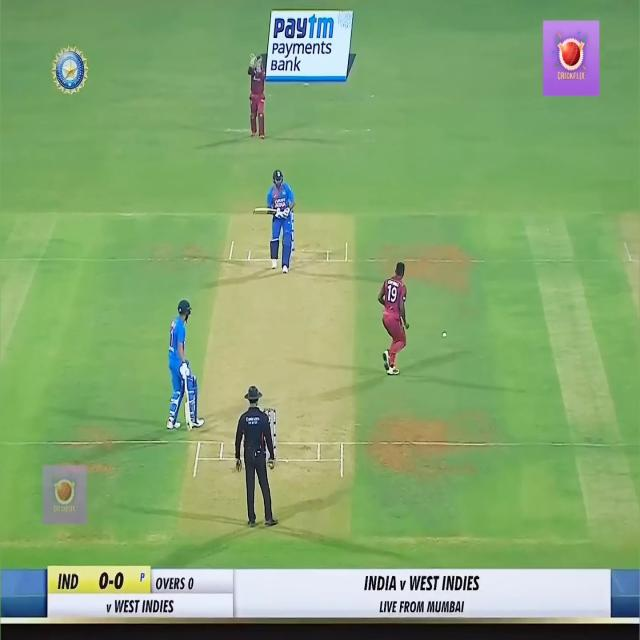fully_visible: (270, 9, 338, 46)
